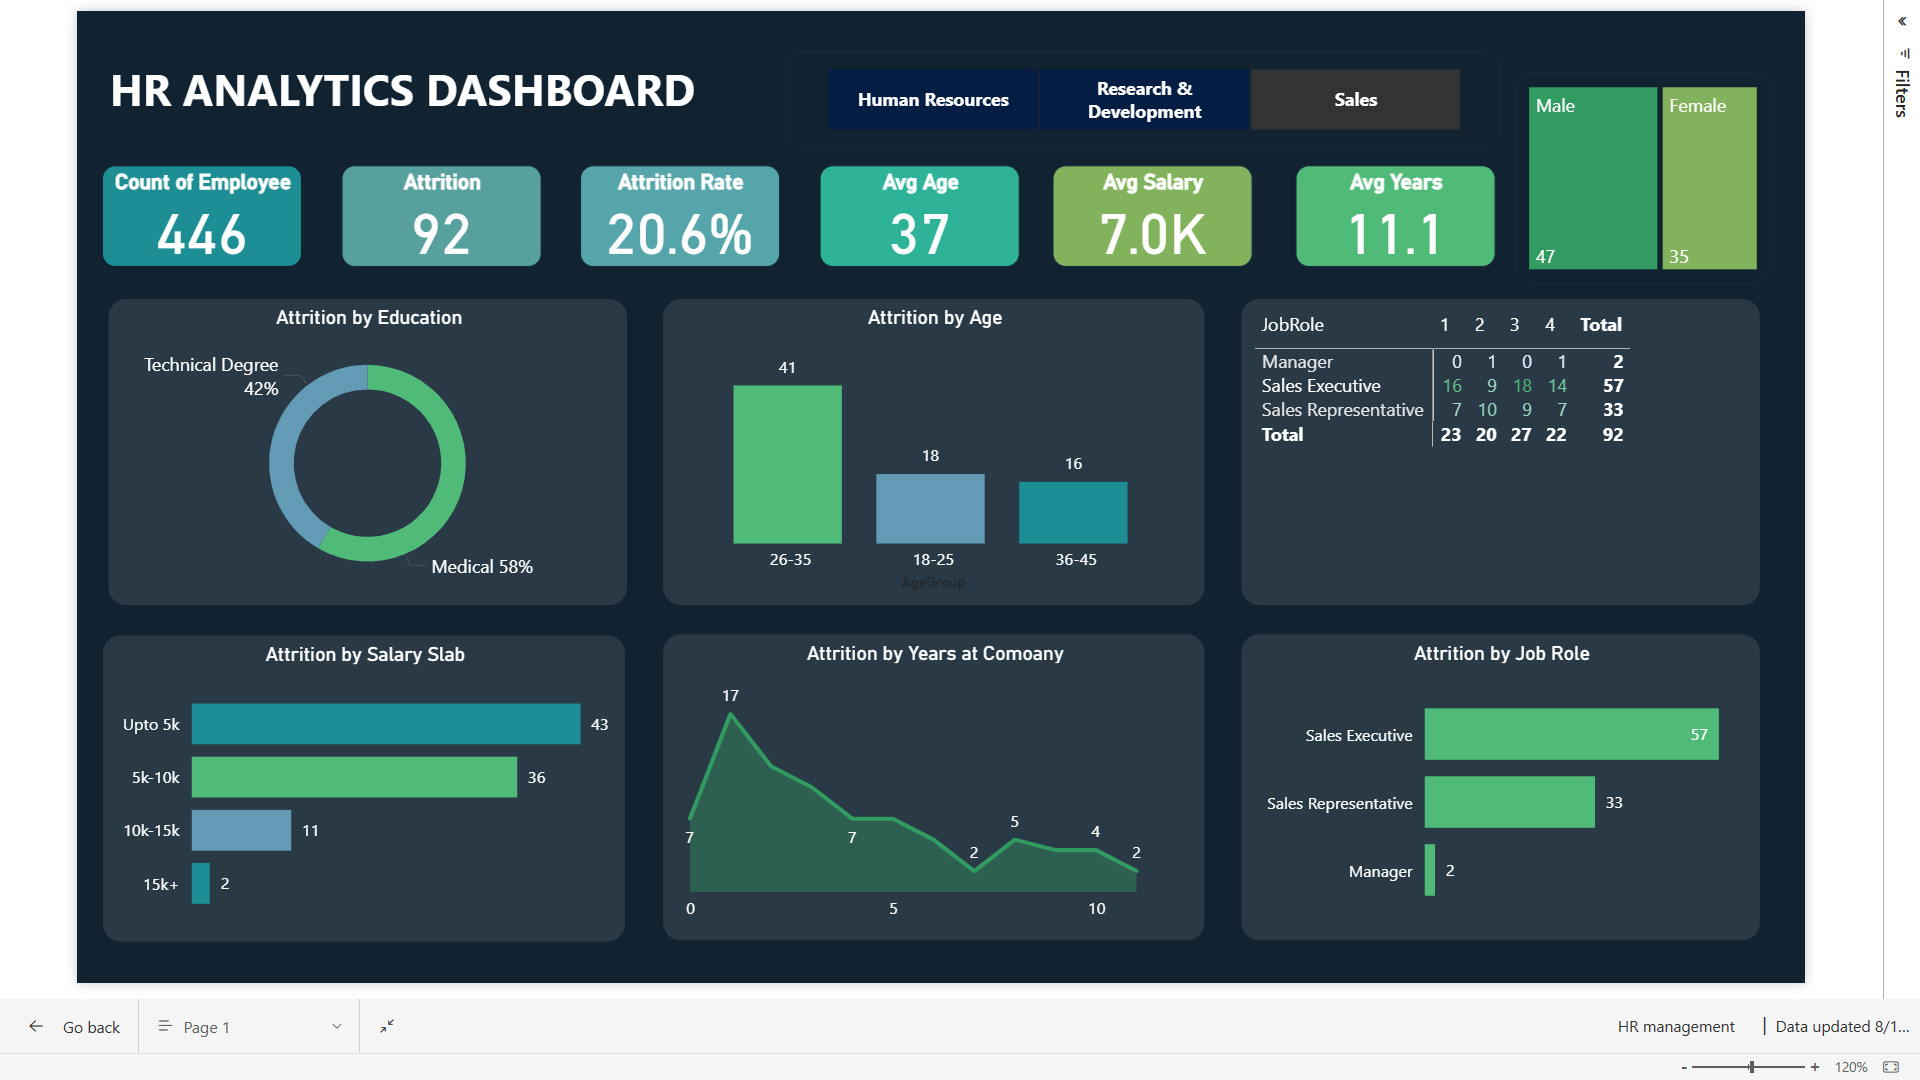

The page's visual inventory and layout, read from the dashboard file:
{"tool":"powerbi","page":{"name":"Page 1","canvas":[1280,720],"ordinal":0},"visuals":[{"type":"card","title":"Count of Employee","fields":{"Values":["CountNonNull(HR_Analytics.EmpID)"]},"box":[18.6,114.3,148.6,75.7],"z":0},{"type":"card","title":"Attrition","fields":{"Values":["Sum(HR_Analytics.AttritionCount)"]},"box":[195.7,114.3,148,75.7],"z":1000},{"type":"card","title":"Attrition Rate","fields":{"Values":["HR_Analytics.AttritionRate"]},"box":[372.9,114.3,148,75.7],"z":2000},{"type":"card","title":"Avg Age","fields":{"Values":["Avg(HR_Analytics.Age)"]},"box":[550,114.3,148.6,75.7],"z":3000},{"type":"card","title":"Avg Salary","fields":{"Values":["Avg(HR_Analytics.MonthlyIncome)"]},"box":[722.9,114.3,148,75.7],"z":4000},{"type":"card","title":"Avg Years","fields":{"Values":["Avg(HR_Analytics.TotalWorkingYears)"]},"box":[902.9,114.3,148,75.7],"z":5000},{"type":"donutChart","title":"Attrition by Education","fields":{"Category":["HR_Analytics.EducationField"],"Y":["Sum(HR_Analytics.AttritionCount)"]},"box":[22.9,212.9,386,228.6],"z":6000},{"type":"columnChart","title":"Attrition by Age","fields":{"Category":["HR_Analytics.AgeGroup"],"Y":["Sum(HR_Analytics.AttritionCount)"]},"box":[433.1,212.3,403,228],"z":7000},{"type":"pivotTable","fields":{"Rows":["HR_Analytics.JobRole"],"Columns":["HR_Analytics.JobSatisfaction"],"Values":["Sum(HR_Analytics.AttritionCount)"]},"box":[861.4,212.3,386.1,228],"z":8000},{"type":"barChart","title":"Attrition by Salary Slab","fields":{"Category":["HR_Analytics.SalarySlab"],"Y":["Sum(HR_Analytics.AttritionCount)"]},"box":[18.6,461.4,388.6,228],"z":9000},{"type":"barChart","title":"Attrition by Job Role","fields":{"Category":["HR_Analytics.JobRole"],"Y":["Sum(HR_Analytics.AttritionCount)"]},"box":[861.4,460.9,386.1,228],"z":10000},{"type":"areaChart","title":"Attrition by Years at Comoany","fields":{"Category":["HR_Analytics.YearsAtCompany"],"Y":["Sum(HR_Analytics.AttritionCount)"]},"box":[433.1,460.9,403,228],"z":11000},{"type":"treemap","title":"Attrition by Gender","fields":{"Group":["HR_Analytics.Gender"],"Values":["Sum(HR_Analytics.AttritionCount)"]},"box":[1065.3,45.8,190.6,156.8],"z":12000},{"type":"slicer","fields":{"Values":["HR_Analytics.Department"]},"box":[524.8,30.2,529.6,71.2],"z":13000},{"type":"textbox","box":[19.2,30.2,478.9,56.3],"z":14000}]}

Visuals, with their boxes on the page's 1280x720 design canvas (x1, y1, x2, y2). These are canvas units, not pixel positions in the 1920x1080 screenshot, which may show the page scaled, cropped or inside an application window:
"Count of Employee" card: 19,114,167,190
"Attrition" card: 196,114,344,190
"Attrition Rate" card: 373,114,521,190
"Avg Age" card: 550,114,699,190
"Avg Salary" card: 723,114,871,190
"Avg Years" card: 903,114,1051,190
"Attrition by Education" donutChart: 23,213,409,442
"Attrition by Age" columnChart: 433,212,836,440
pivotTable - HR_Analytics.JobRole x HR_Analytics.JobSatisfaction: 861,212,1248,440
"Attrition by Salary Slab" barChart: 19,461,407,689
"Attrition by Job Role" barChart: 861,461,1248,689
"Attrition by Years at Comoany" areaChart: 433,461,836,689
"Attrition by Gender" treemap: 1065,46,1256,203
slicer - HR_Analytics.Department: 525,30,1054,101
textbox: 19,30,498,86
